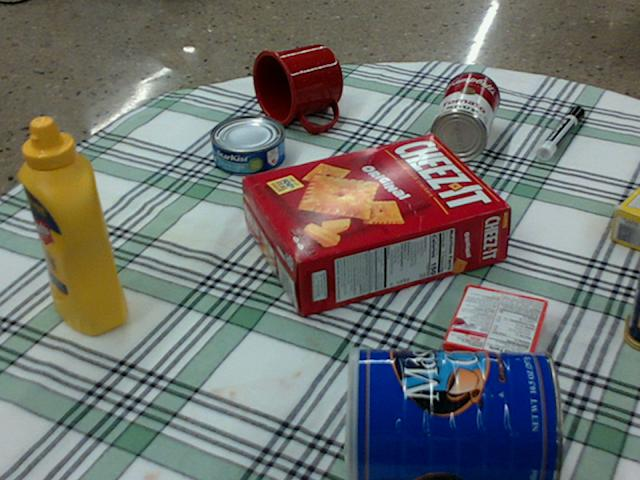cracker_box: (243, 135, 508, 316)
gelatin_box: (442, 284, 547, 380)
large_marker: (535, 106, 583, 158)
master_chef_can: (348, 349, 565, 479)
mug: (251, 45, 342, 129)
mustard_bottle: (18, 117, 126, 334)
potted_meat_can: (623, 261, 639, 348)
sugar_box: (612, 189, 639, 250)
tomato_soup_can: (428, 71, 499, 160)
tuna_fish_can: (209, 115, 284, 174)
